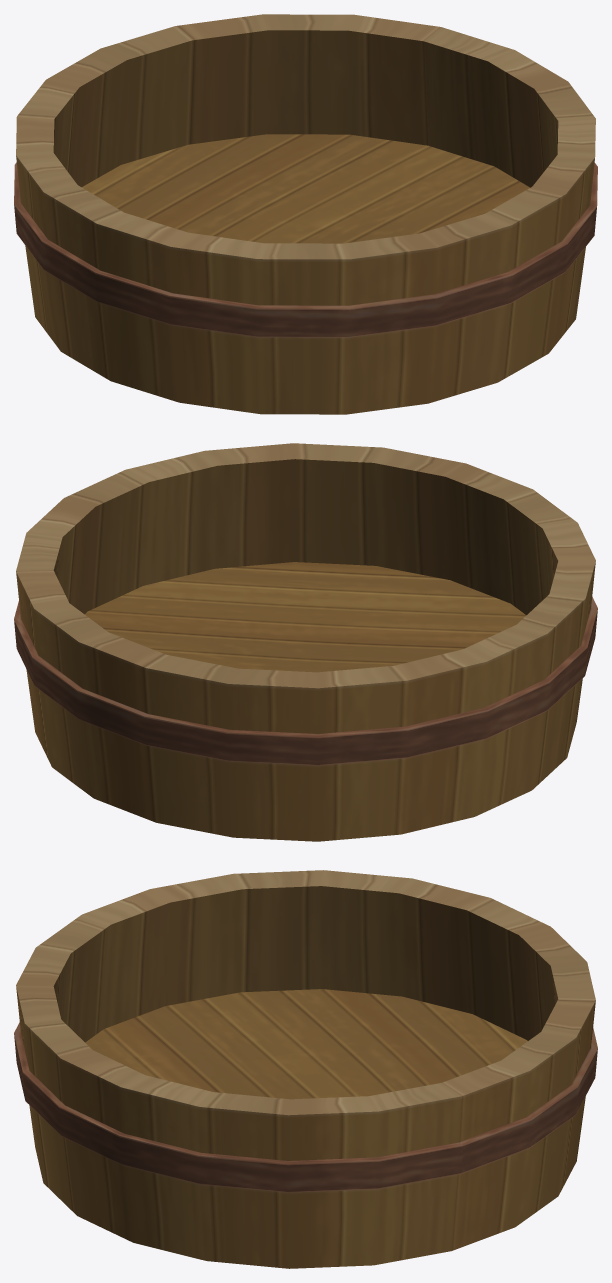
The model's file is tarai.fbx.
3 views of the same model, one above another, from view 1: azimuth 30°, elevation 25°; view 2: azimuth 150°, elevation 25°; view 3: azimuth 270°, elevation 25° (orthographic).
Parts seen in each view (by area): view 1: tarai; view 2: tarai; view 3: tarai.
Boxes of the visible parts, x1,y1,x2,y2 form: tarai: (14, 14, 597, 414); tarai: (14, 443, 597, 841); tarai: (14, 870, 597, 1268).
Bounding box in the file's own units: 5.16 × 1.58 × 5.16.
